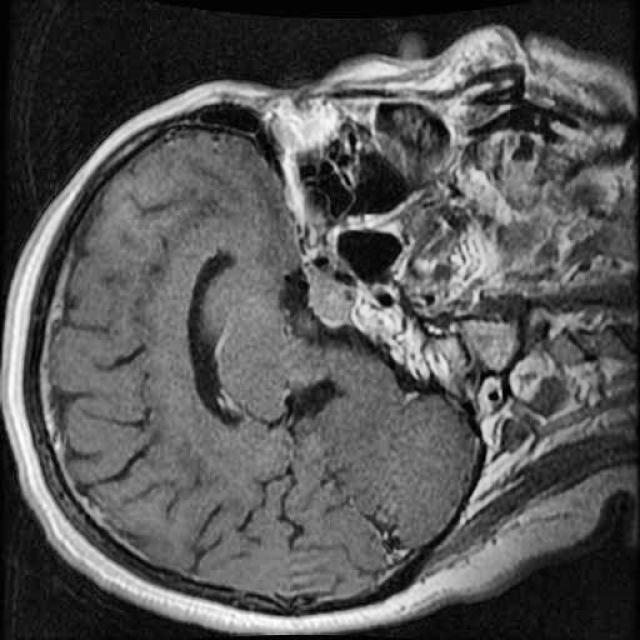Tumor: (281, 224, 368, 342)
